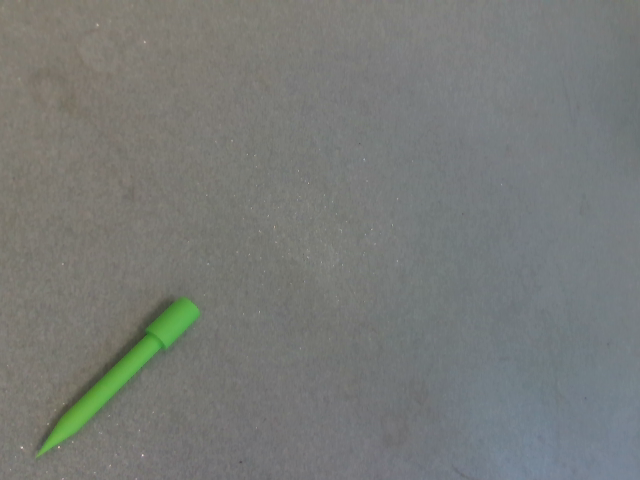Probe: (27, 289, 208, 465)
